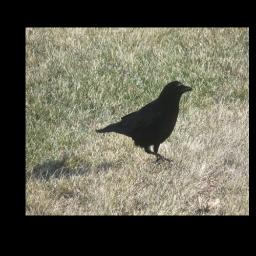Crow: (97, 78, 196, 162)
